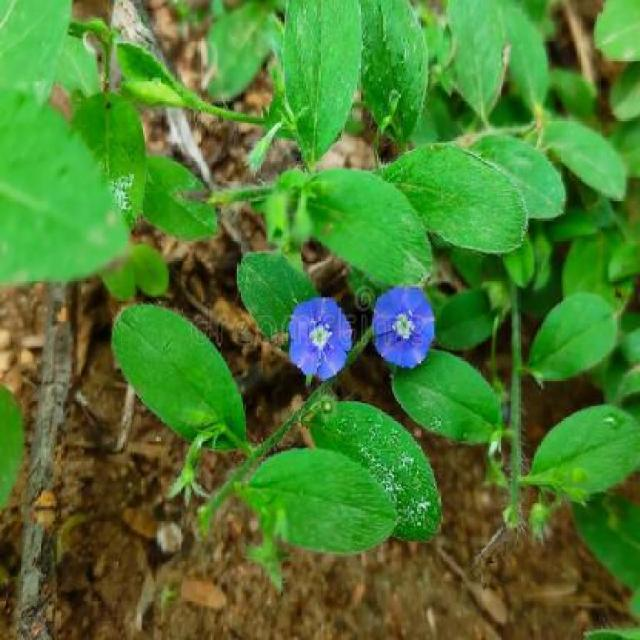flower: (285, 283, 353, 379), (376, 279, 442, 363)
